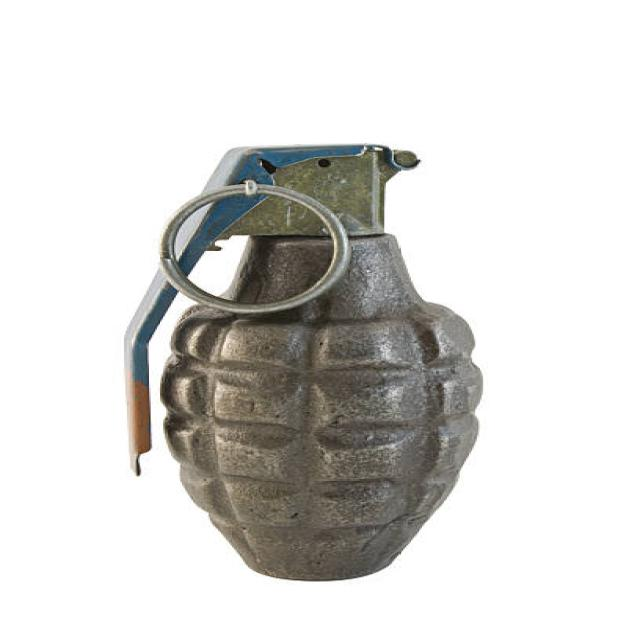grenade: (100, 135, 490, 592)
